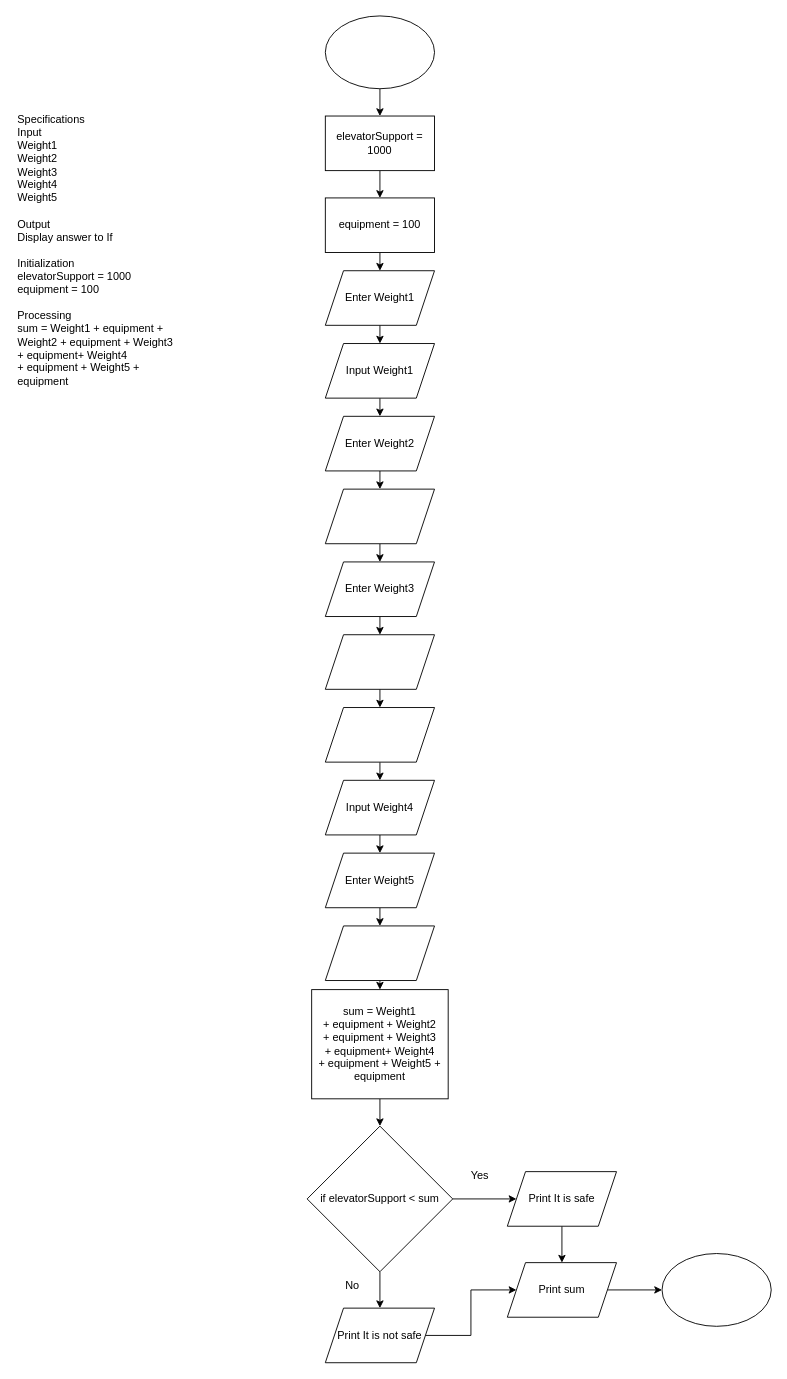
This 787x1379 diagram has some shape labels left out. Each missing label, with the centre of its shape:
"Enter Weight4" belongs at (379,734).
"Input Weight2" belongs at (379,516).
"Input Weight3" belongs at (379,661).
"Input Weight5" belongs at (379,953).
"Start" belongs at (379,52).
"sum" belongs at (716,1289).
